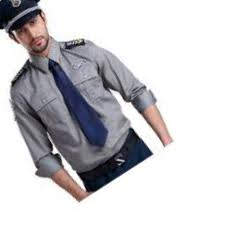uniform: (7, 38, 175, 201)
